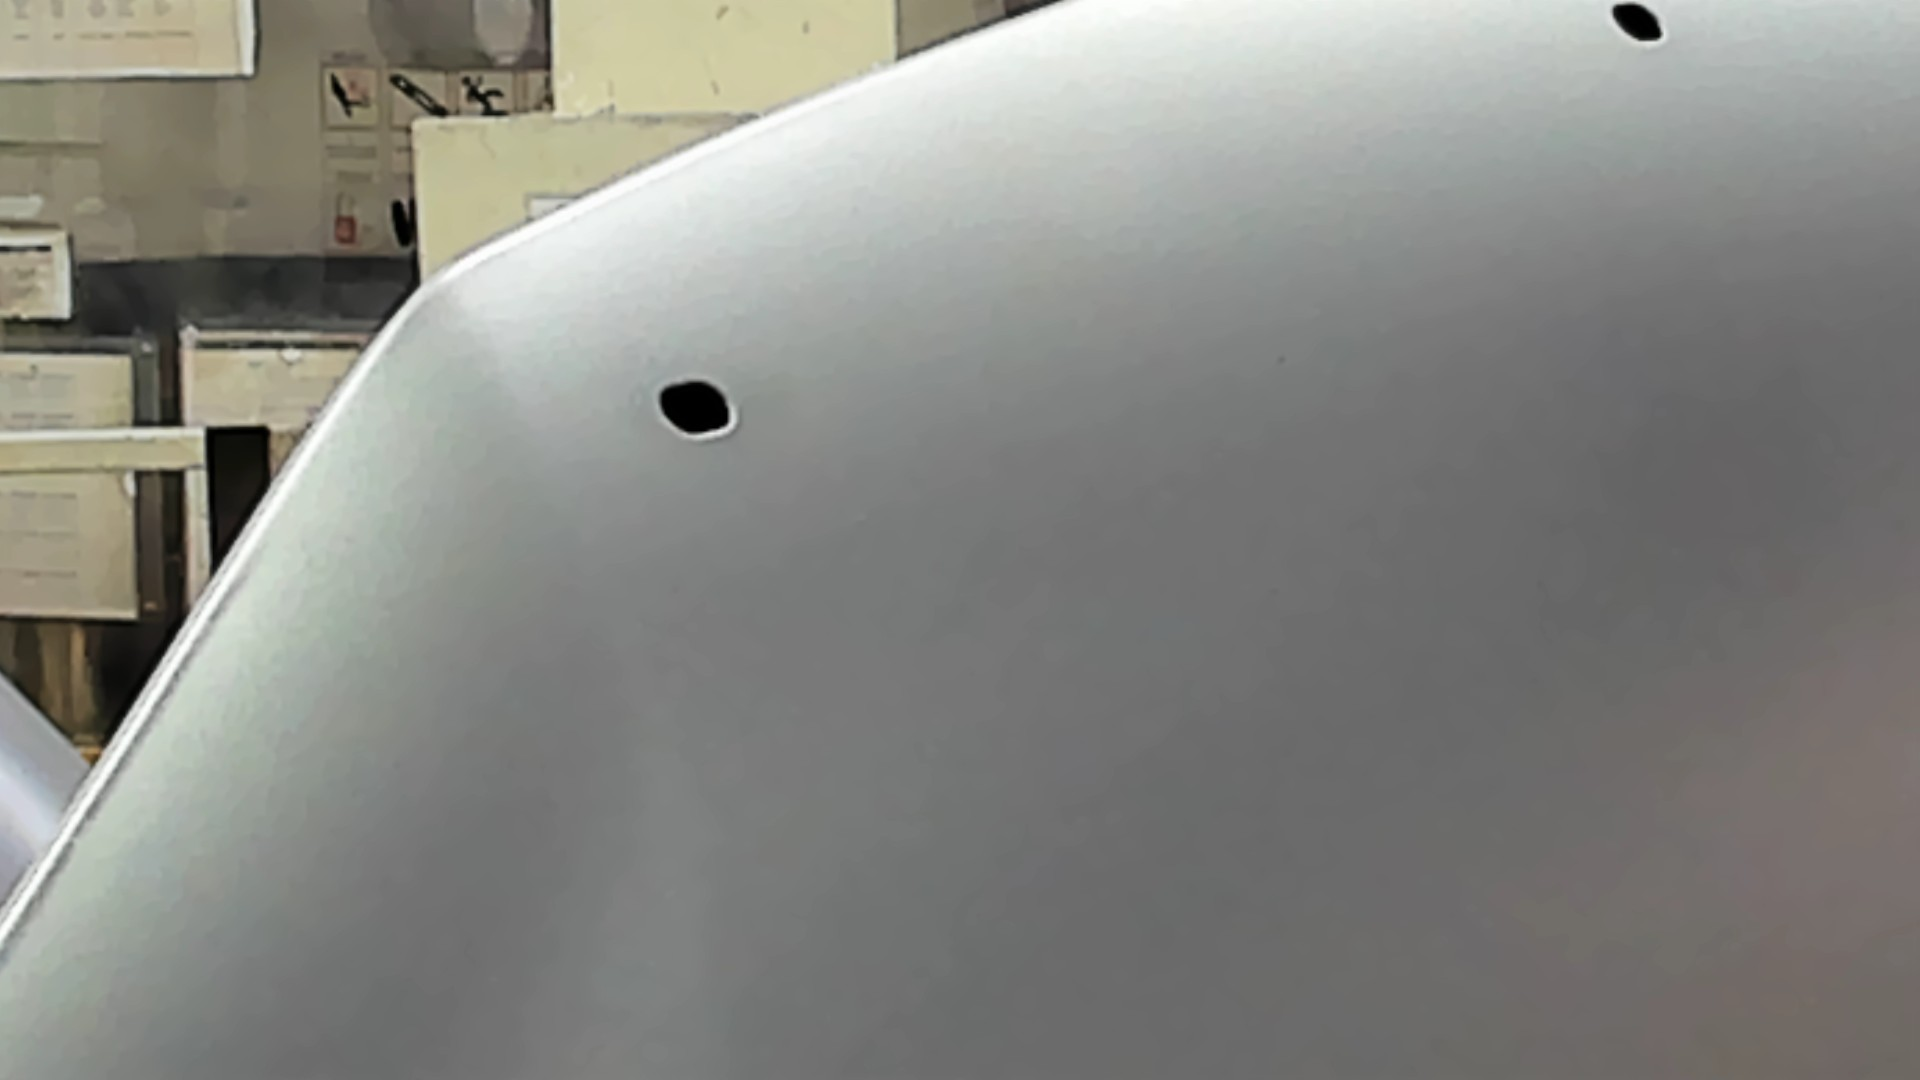amorfo: (646, 375, 742, 444), (1605, 1, 1671, 51)
